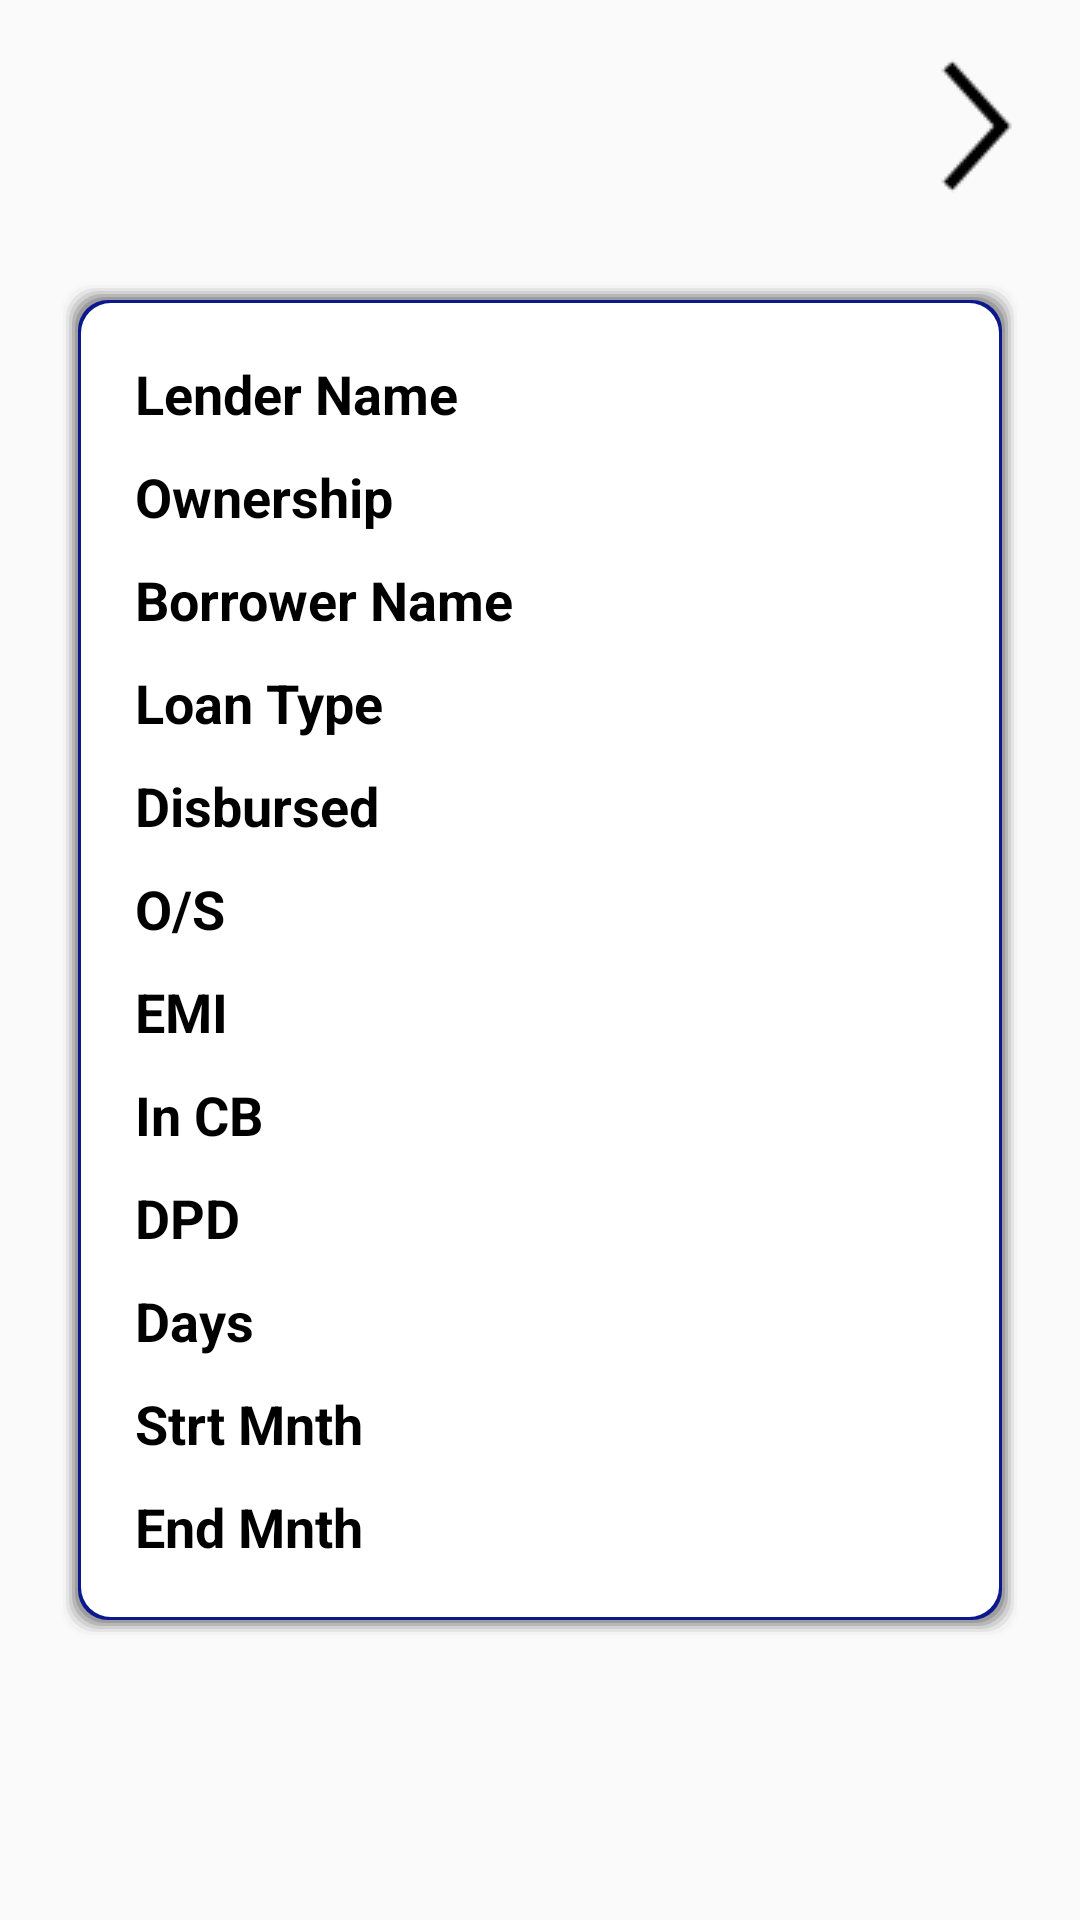

Named icons in this screenshot (1080px×1920px) and their centers, [x,y]:
right arrow: [976,126]
